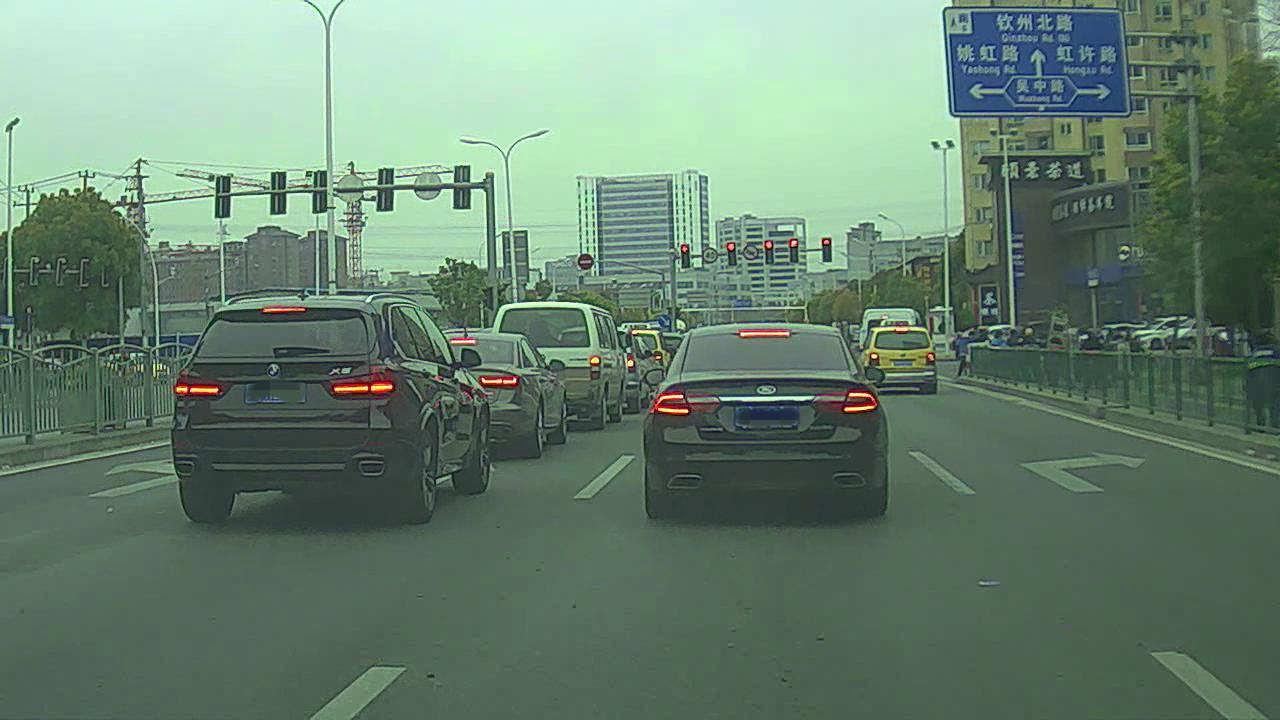traffic_light: (821, 238, 833, 264), (680, 244, 690, 269), (727, 240, 737, 265), (789, 239, 798, 264), (765, 241, 774, 264)
